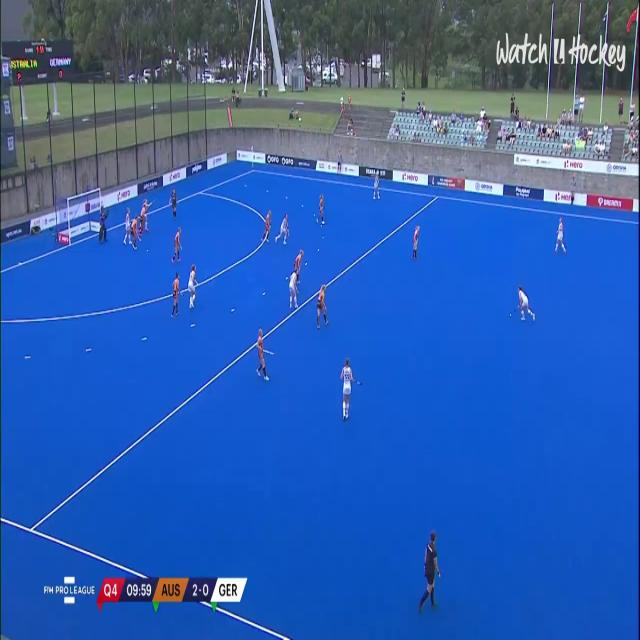ball: (508, 306, 514, 322)
